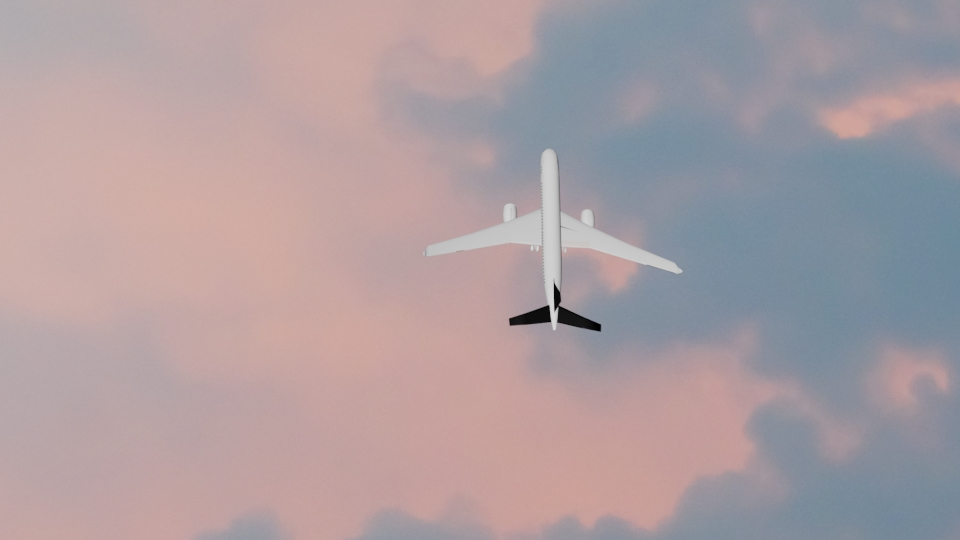plane: (420, 144, 683, 335)
